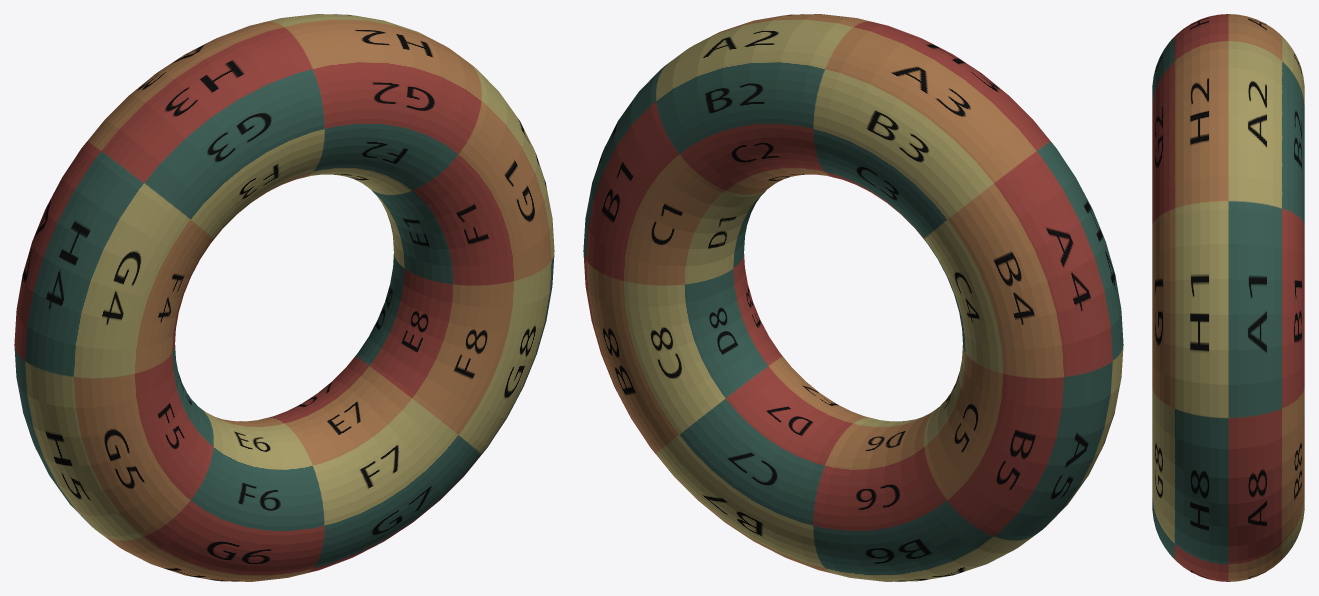
File: texture_torus_R15_r20.glb
3 renders of one model, left to right at view 1: azimuth 30°, elevation 25°; view 2: azimuth 150°, elevation 25°; view 3: azimuth 270°, elevation 25°, orthographic. The views are drawn at different scales.
Visible parts, largest first — view 1: world; view 2: world; view 3: world.
Part boxes in pixels (left/top/right/bottom): world: left=14, top=14, right=554, bottom=581; world: left=583, top=14, right=1123, bottom=581; world: left=1152, top=14, right=1304, bottom=581.
Bounding box in the file's own units: 27.33 × 27.28 × 7.32.
1 material, 1 textured.
